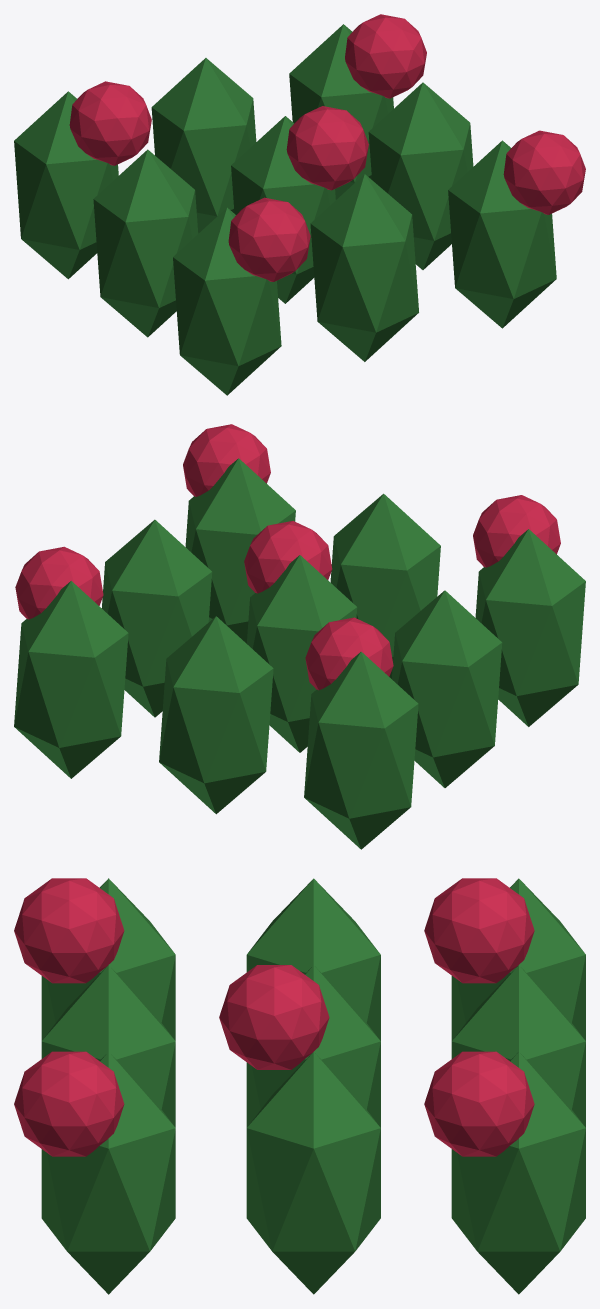
The model's file is crop_tomato.obj.
The picture shows the model from 3 angles, top to bottom: view 1: azimuth 30°, elevation 25°; view 2: azimuth 150°, elevation 25°; view 3: azimuth 270°, elevation 25°; orthographic projection. The views are drawn at different scales.
Visible parts, largest first — view 1: part_11, part_5, part_12, part_9, part_8, part_0, part_2, part_6, part_3, part_1, part_4, part_13 (+2 smaller); view 2: part_2, part_0, part_3, part_5, part_9, part_8, part_11, part_6, part_12, part_1, part_10, part_13 (+2 smaller); view 3: part_8, part_12, part_3, part_11, part_2, part_5, part_10, part_1, part_13, part_4, part_7, part_9 (+2 smaller).
Boxes of the visible parts, bbox=[...] form: part_11: bbox=[310, 174, 418, 361]; part_5: bbox=[93, 149, 198, 337]; part_12: bbox=[448, 140, 556, 328]; part_9: bbox=[173, 207, 281, 395]; part_8: bbox=[368, 82, 473, 269]; part_0: bbox=[14, 91, 118, 279]; part_2: bbox=[151, 58, 256, 233]; part_6: bbox=[231, 116, 335, 303]; part_3: bbox=[289, 24, 393, 199]; part_1: bbox=[69, 81, 151, 165]; part_4: bbox=[345, 14, 426, 98]; part_13: bbox=[503, 130, 585, 214]; part_2: bbox=[159, 616, 273, 814]; part_0: bbox=[304, 651, 418, 849]; part_3: bbox=[14, 581, 128, 778]; part_5: bbox=[392, 590, 502, 787]; part_9: bbox=[475, 529, 585, 726]; part_8: bbox=[101, 519, 212, 717]; part_11: bbox=[330, 493, 440, 678]; part_6: bbox=[246, 555, 357, 752]; part_12: bbox=[185, 458, 295, 643]; part_1: bbox=[305, 617, 393, 690]; part_10: bbox=[473, 495, 560, 567]; part_13: bbox=[183, 424, 270, 496]; part_8: bbox=[246, 1052, 380, 1294]; part_12: bbox=[41, 1052, 175, 1294]; part_3: bbox=[451, 1052, 585, 1294]; part_11: bbox=[41, 965, 175, 1127]; part_2: bbox=[451, 965, 585, 1127]; part_5: bbox=[246, 878, 380, 1040]; part_10: bbox=[14, 878, 124, 983]; part_1: bbox=[424, 878, 534, 983]; part_13: bbox=[14, 1051, 124, 1156]; part_4: bbox=[424, 1051, 534, 1156]; part_7: bbox=[219, 965, 329, 1069]; part_9: bbox=[41, 878, 175, 1040].
Bounding box in the file's own units: 0.726 × 0.36 × 0.7251.
